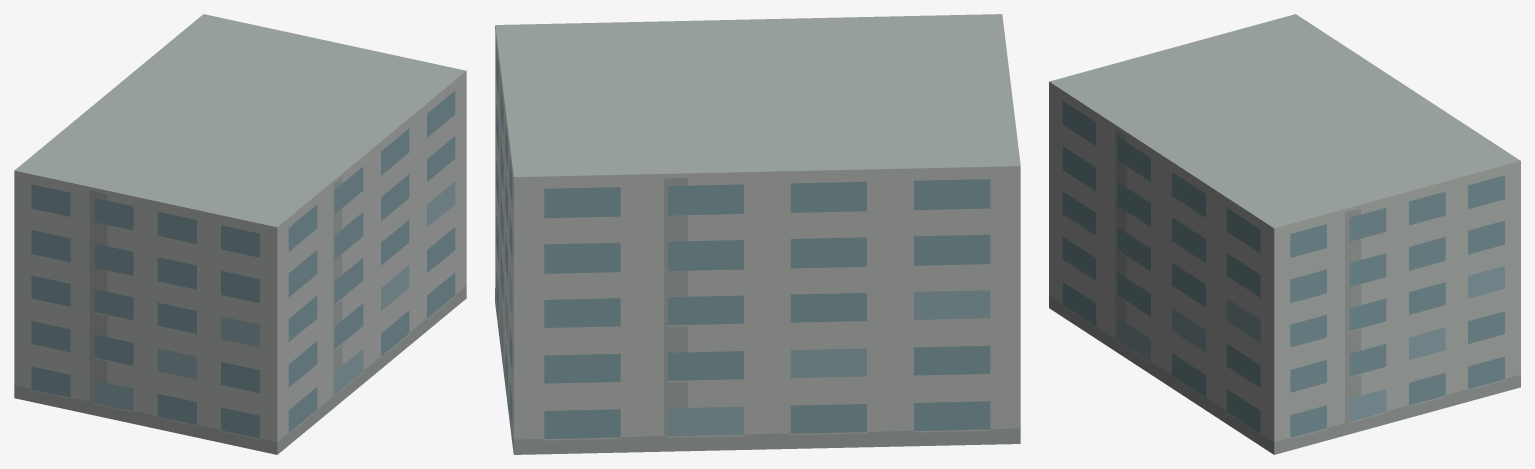
Rendered from residential-5e67ed92-aa45-496f-a22f-e9c5c47dc1b8.glb.
3 renders of one model, left to right at view 1: azimuth 30°, elevation 25°; view 2: azimuth 150°, elevation 25°; view 3: azimuth 270°, elevation 25°, orthographic. The views are drawn at different scales.
Parts seen in each view (by area): view 1: residential-5e67ed92-aa45-496f-a22f-e9c5c47dc1b8.tmp; view 2: residential-5e67ed92-aa45-496f-a22f-e9c5c47dc1b8.tmp; view 3: residential-5e67ed92-aa45-496f-a22f-e9c5c47dc1b8.tmp.
Part boxes in pixels (x1,y1,x2,y2): residential-5e67ed92-aa45-496f-a22f-e9c5c47dc1b8.tmp: (14, 14, 466, 454); residential-5e67ed92-aa45-496f-a22f-e9c5c47dc1b8.tmp: (495, 14, 1020, 454); residential-5e67ed92-aa45-496f-a22f-e9c5c47dc1b8.tmp: (1049, 14, 1520, 454).
Bounding box in the file's own units: 30.97 × 15.25 × 28.8.
